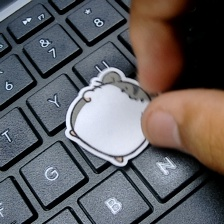mouse: (63, 59, 164, 170)
